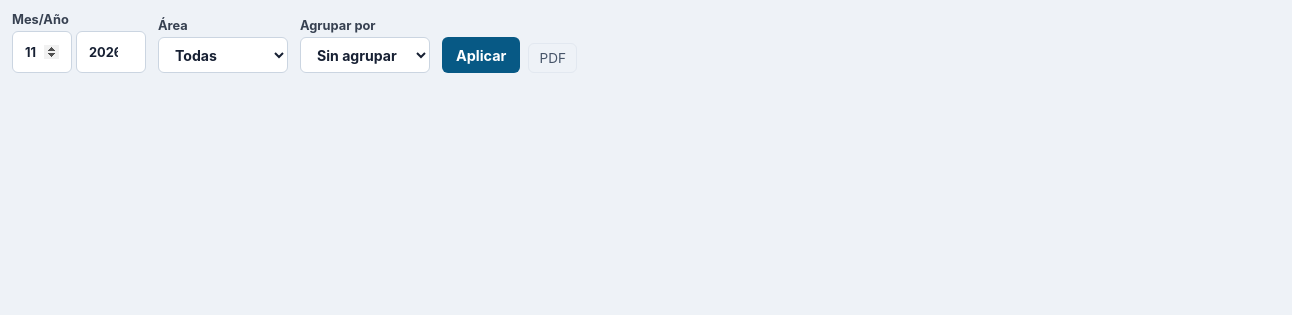
Test: WorkloadReport › muestra el sexo en español
This screenshot has width=1292, height=315.
Click the button "Aplicar": (481, 55) left=442, top=37, right=520, bottom=73
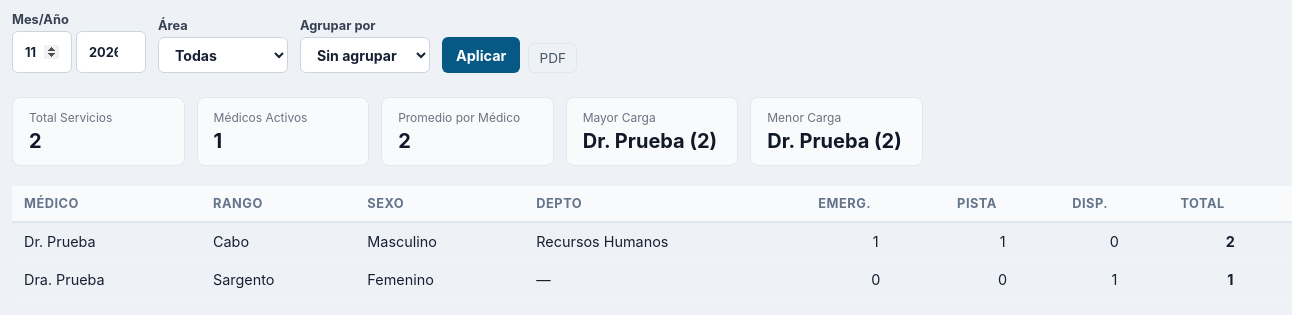
Expected: the text "Masculino" is shown, left=355, top=222, right=524, bottom=260
Expected: the text "Femenino" is shown, left=355, top=260, right=524, bottom=298
